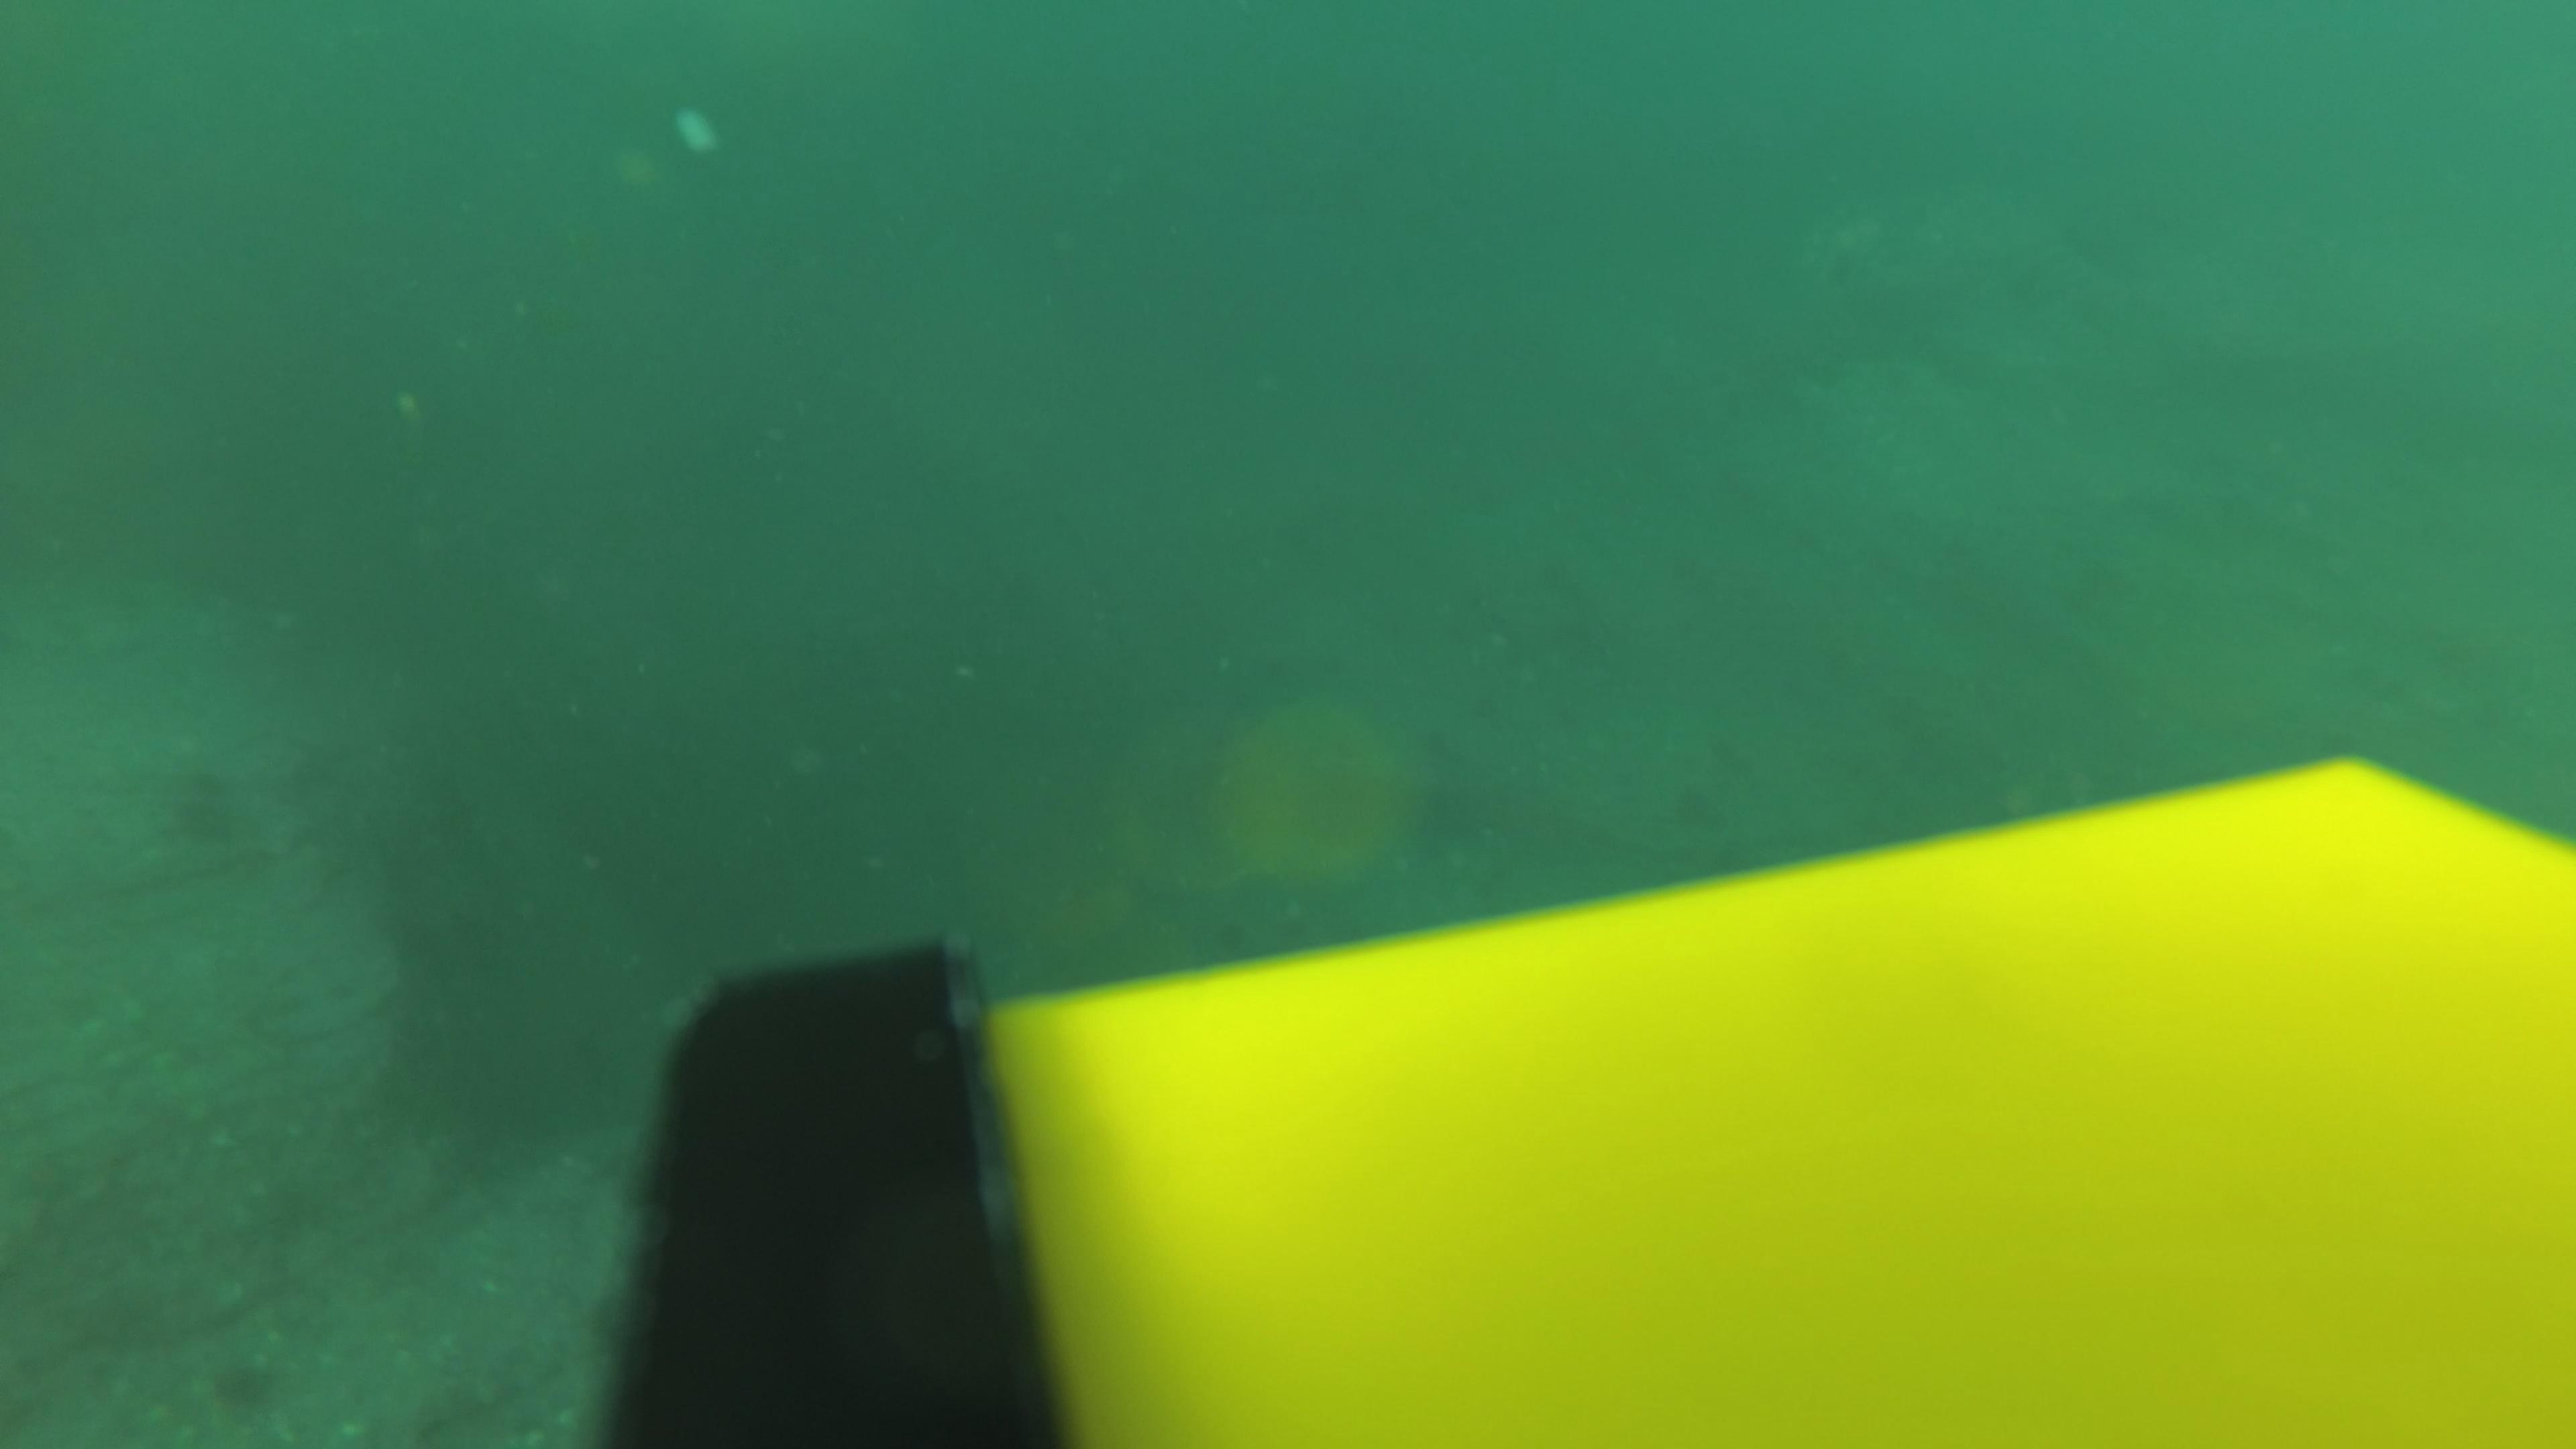echinus: (156, 761, 251, 851), (203, 1350, 287, 1426)
